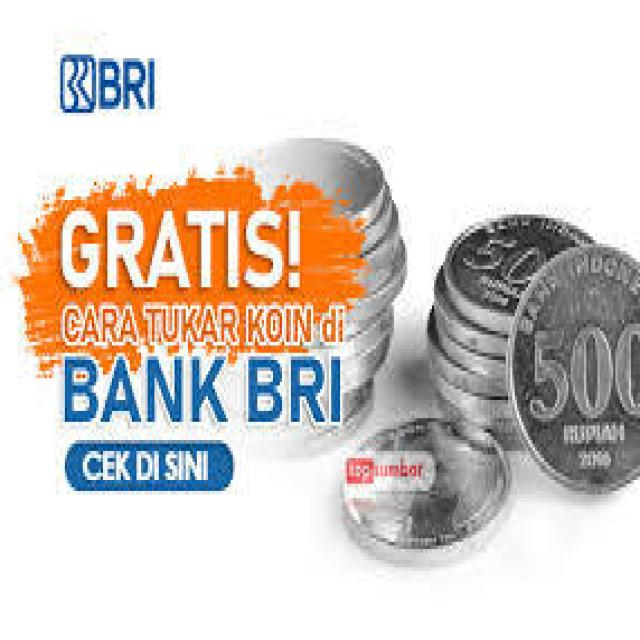500-silver: (507, 239, 640, 505)
